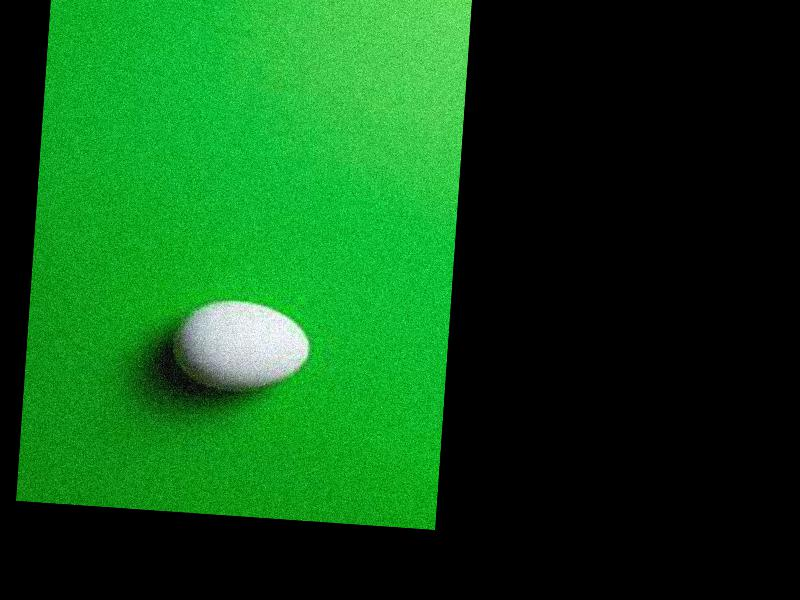Eggs: (170, 298, 312, 395)
